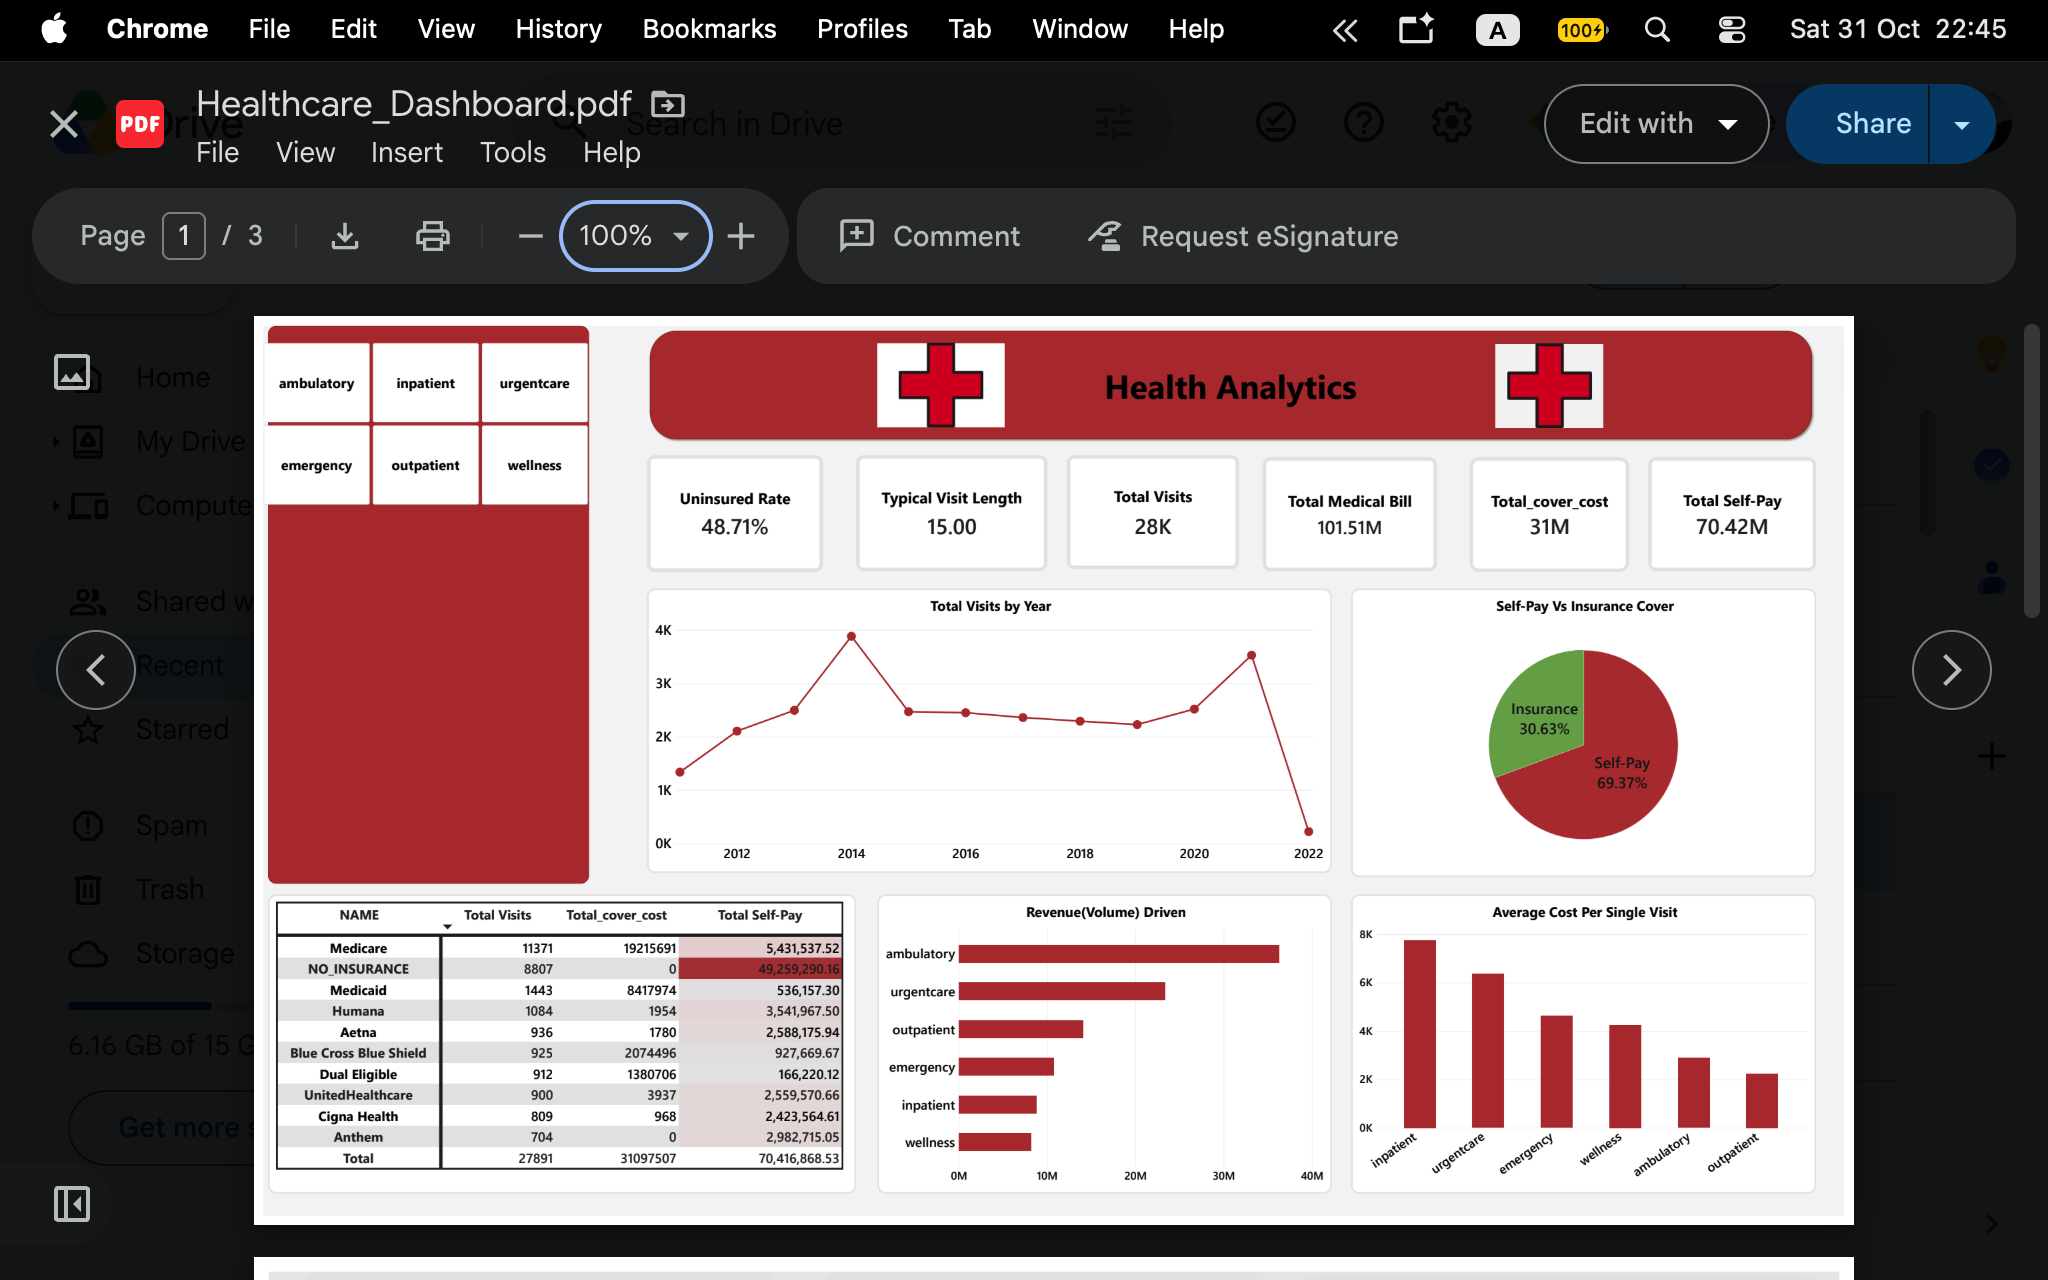

The dashboard page shown, as its layout file describes it:
{"tool":"powerbi","page":{"name":"Overview","canvas":[3840,2160],"ordinal":0},"visuals":[{"type":"cardVisual","fields":{"Data":["Encounters.Total Encounters"]},"box":[1951.4,313.9,418.5,277.3],"z":0},{"type":"cardVisual","fields":{"Data":["Encounters.Typical Visit Length"]},"box":[1438.7,313.9,465.6,282.5],"z":1000},{"type":"cardVisual","fields":{"Data":["Encounters.Total Medical Bill"]},"box":[2427.5,319.1,423.8,277.3],"z":2000},{"type":"cardVisual","fields":{"Data":["Encounters.Claim Failure Rate"]},"box":[931.2,313.9,427.6,283.6],"z":3000},{"type":"cardVisual","fields":{"Data":["Encounters.Total_cover_cost"]},"box":[2929.7,319.1,388.4,279.3],"z":4000},{"type":"cardVisual","fields":{"Data":["Encounters.Total Self-Pay"]},"box":[3363.9,319.1,408.1,277.3],"z":5000},{"type":"pivotTable","fields":{"Rows":["Payers.NAME"],"Values":["Encounters.Total Visits","Encounters.Total_cover_cost","Encounters.Total Self-Pay"]},"box":[10.5,1381.1,1428.2,727.2],"z":6000},{"type":"lineChart","fields":{"Category":["Encounters.START.Variation.Date Hierarchy.Year"],"Y":["Encounters.Total Visits"]},"box":[931.2,638.3,1663.7,690.6],"z":7000},{"type":"clusteredBarChart","title":"Revenue(Volume) Driven","fields":{"Category":["Encounters.ENCOUNTERCLASS"],"Y":["Encounters.Total Medical Bill"]},"box":[1491,1381.1,1103.9,727.2],"z":8000},{"type":"columnChart","title":"Average Cost Per Single Visit","fields":{"Category":["Encounters.ENCOUNTERCLASS"],"Y":["Encounters.Average_Claim_Cost"]},"box":[2642,1381.1,1130,727.2],"z":9000},{"type":"pieChart","title":"Self-Pay Vs Insurance Cover","fields":{"Y":["Encounters.Total Self-Pay","Encounters.Total_cover_cost"]},"box":[2642,638.3,1130,701],"z":10000},{"type":"shape","box":[10.5,0,779.5,1355],"z":11000},{"type":"shape","box":[967.8,5.2,2804.1,277.3],"z":12000},{"type":"advancedSlicerVisual","fields":{"Values":["Encounters.ENCOUNTERCLASS"]},"box":[0,41.9,790,392.4],"z":13000},{"type":"image","box":[1491,41.9,308.7,204],"z":14000},{"type":"image","box":[2993.5,43.6,261.6,204],"z":15000}]}

Visuals, with their boxes on the page's 3840x2160 design canvas (x1, y1, x2, y2). These are canvas units, not pixel positions in the 2048x1280 screenshot, which may show the page scaled, cropped or inside an application window:
cardVisual - Encounters.Total Encounters: crop(1951, 314, 2370, 591)
cardVisual - Encounters.Typical Visit Length: crop(1439, 314, 1904, 596)
cardVisual - Encounters.Total Medical Bill: crop(2428, 319, 2851, 596)
cardVisual - Encounters.Claim Failure Rate: crop(931, 314, 1359, 598)
cardVisual - Encounters.Total_cover_cost: crop(2930, 319, 3318, 598)
cardVisual - Encounters.Total Self-Pay: crop(3364, 319, 3772, 596)
pivotTable - Payers.NAME x Encounters.Total Visits: crop(10, 1381, 1439, 2108)
lineChart - Encounters.START.Variation.Date Hierarchy.Year x Encounters.Total Visits: crop(931, 638, 2595, 1329)
"Revenue(Volume) Driven" clusteredBarChart: crop(1491, 1381, 2595, 2108)
"Average Cost Per Single Visit" columnChart: crop(2642, 1381, 3772, 2108)
"Self-Pay Vs Insurance Cover" pieChart: crop(2642, 638, 3772, 1339)
shape: crop(10, 0, 790, 1355)
shape: crop(968, 5, 3772, 282)
advancedSlicerVisual - Encounters.ENCOUNTERCLASS: crop(0, 42, 790, 434)
image: crop(1491, 42, 1800, 246)
image: crop(2994, 44, 3255, 248)
